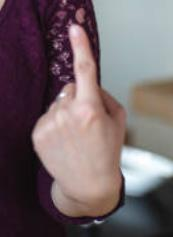up: (28, 24, 135, 204)
